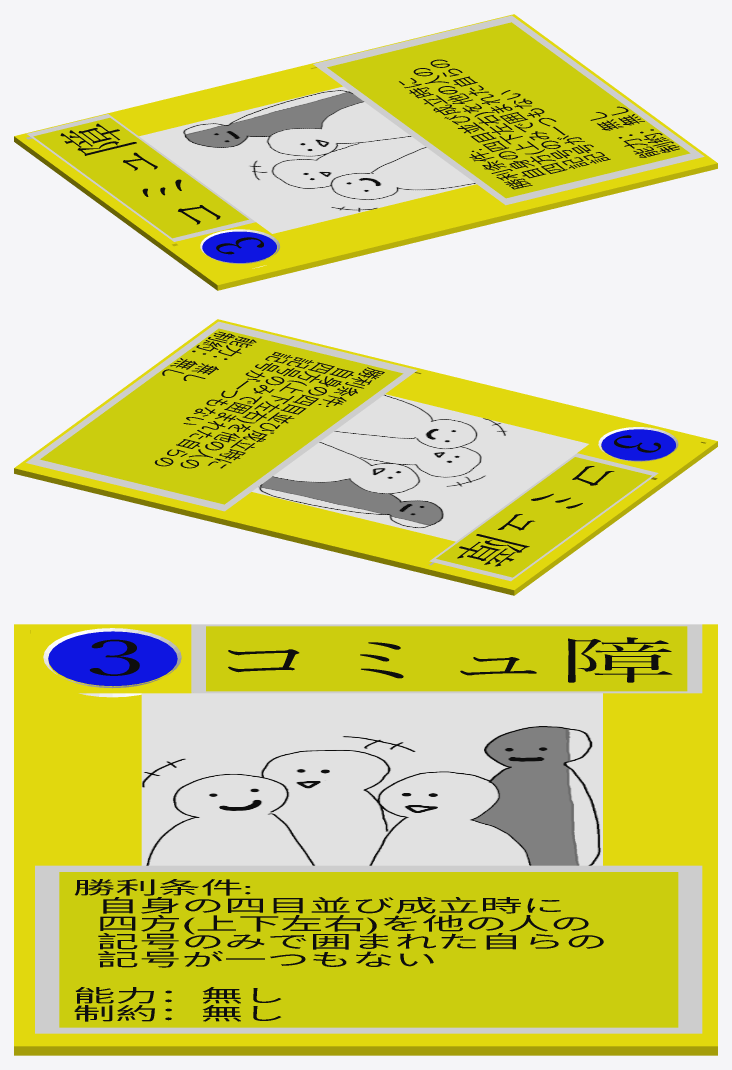
Rendered from コミュ障黄.fbx.
3 renders of one model, top to bottom at view 1: azimuth 30°, elevation 25°; view 2: azimuth 150°, elevation 25°; view 3: azimuth 270°, elevation 25°, orthographic. The views are drawn at different scales.
Visible parts, largest first — view 1: 説明欄, 平面.001, カード本体.001, 名前欄, 説明文, 円, 平面, 名前; view 2: 説明欄, 平面.001, カード本体.001, 名前欄, 説明文, 円, 平面, 名前; view 3: 説明欄, 平面.001, カード本体.001, 名前欄, 説明文, 円, 平面, 名前, コスト蘭.
Boxes of the visible parts, x1,y1,x2,y2 form: 説明欄: (313, 15, 704, 205); 平面.001: (139, 86, 476, 233); カード本体.001: (14, 14, 717, 290); 名前欄: (27, 114, 255, 241); 説明文: (399, 59, 679, 189); 円: (202, 231, 276, 262); 平面: (174, 222, 302, 275); 名前: (60, 123, 220, 224); 説明欄: (26, 321, 417, 511); 平面.001: (252, 394, 588, 541); カード本体.001: (14, 319, 717, 595); 名前欄: (429, 453, 658, 581); 説明文: (154, 331, 384, 468); 円: (601, 429, 675, 460); 平面: (577, 419, 704, 472); 名前: (457, 466, 614, 566); 説明欄: (35, 865, 702, 1033); 平面.001: (141, 693, 602, 865); カード本体.001: (14, 624, 717, 1055); 名前欄: (191, 624, 702, 693); 説明文: (74, 879, 603, 1021); 円: (48, 631, 177, 686); 平面: (30, 624, 191, 693); 名前: (228, 637, 672, 682); コスト蘭: (43, 628, 181, 697).
Bounding box in the file's own units: 281 × 6.07 × 198.
